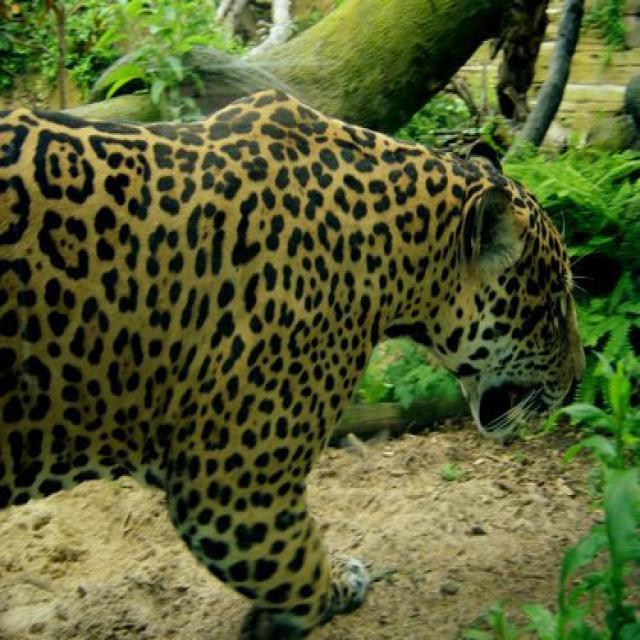Leopard: (0, 82, 585, 635)
